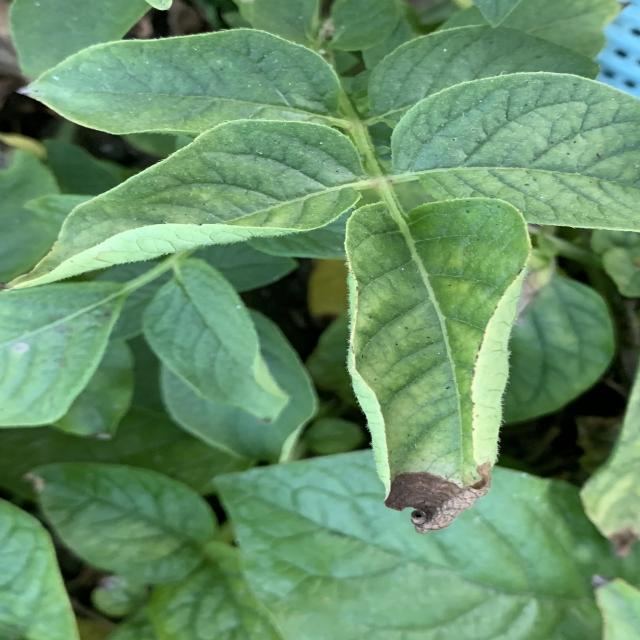lateblight: (385, 462, 492, 534)
